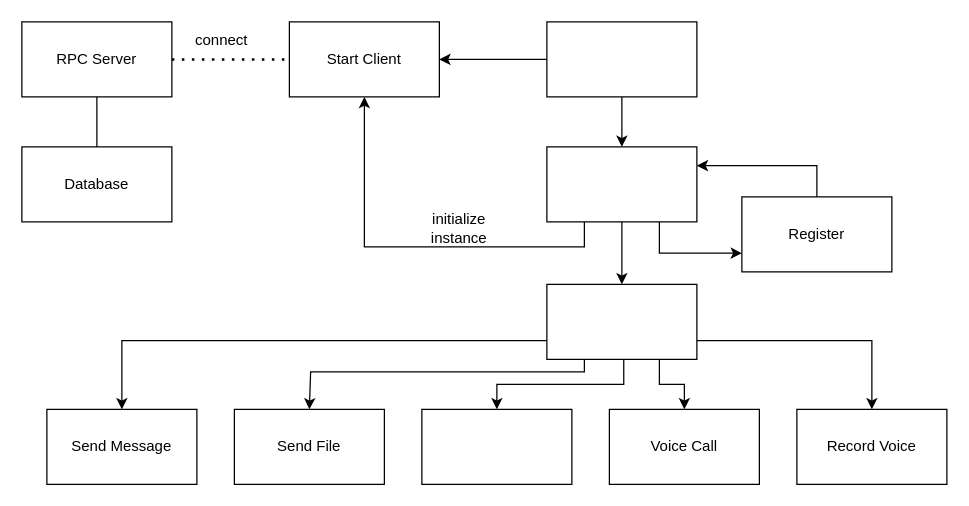
The diagram is 969 pixels wide and 506 high, and some of its shapes have lost their labels. Each missing label, with the box of its shape:
Add Friend: (421, 408, 572, 484)
Login: (546, 146, 697, 222)
Main Window: (546, 283, 697, 359)
Start GUI: (546, 21, 697, 97)
